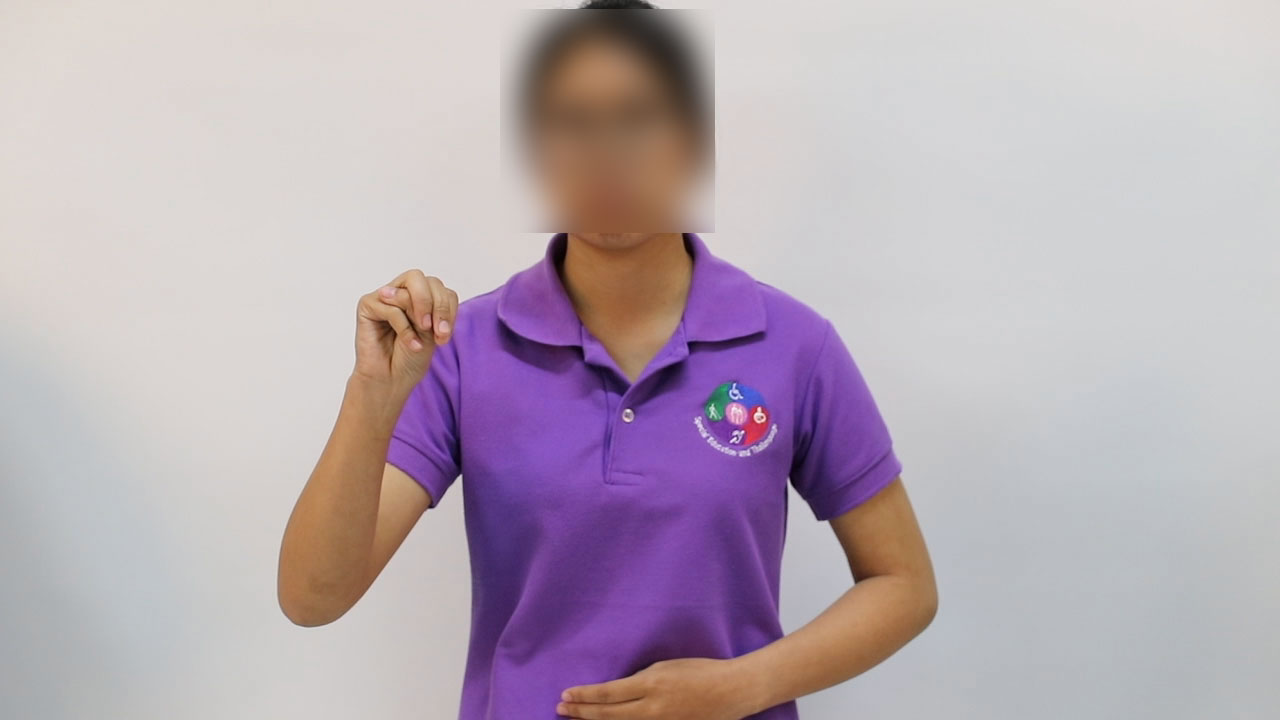mor: (337, 244, 469, 407)
